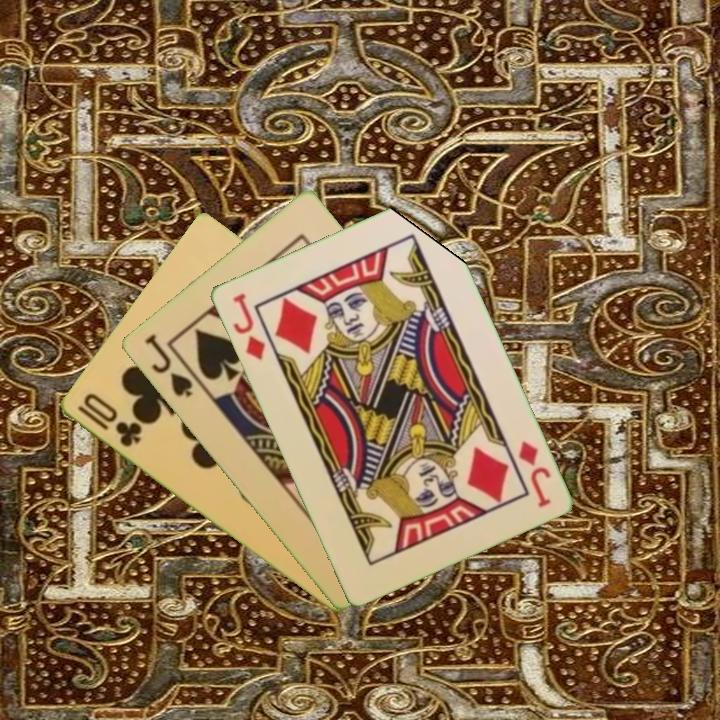10c: (73, 389, 144, 451)
Jd: (228, 289, 268, 363), (514, 437, 553, 510)
Js: (140, 330, 195, 401)
